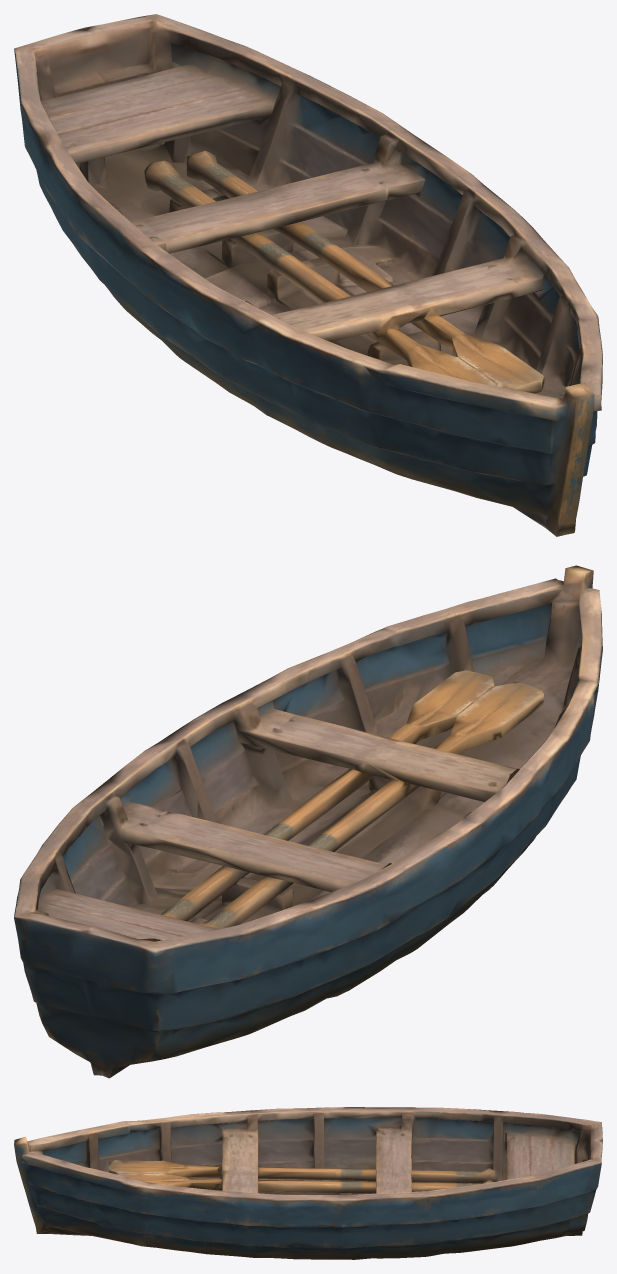
3 renders of one model, top to bottom at view 1: azimuth 30°, elevation 25°; view 2: azimuth 150°, elevation 25°; view 3: azimuth 270°, elevation 25°, orthographic. The views are drawn at different scales.
Parts seen in each view (by area): view 1: tripo_node_dc0bc09c-6f43-41ee-a831-c813d412371c; view 2: tripo_node_dc0bc09c-6f43-41ee-a831-c813d412371c; view 3: tripo_node_dc0bc09c-6f43-41ee-a831-c813d412371c.
Boxes of the visible parts, <box> form: tripo_node_dc0bc09c-6f43-41ee-a831-c813d412371c: <box>14,14,602,536</box>; tripo_node_dc0bc09c-6f43-41ee-a831-c813d412371c: <box>14,565,602,1078</box>; tripo_node_dc0bc09c-6f43-41ee-a831-c813d412371c: <box>14,1107,602,1259</box>.
Bounding box in the file's own units: 0.3764 × 0.1861 × 1.
1 material, 1 textured.
